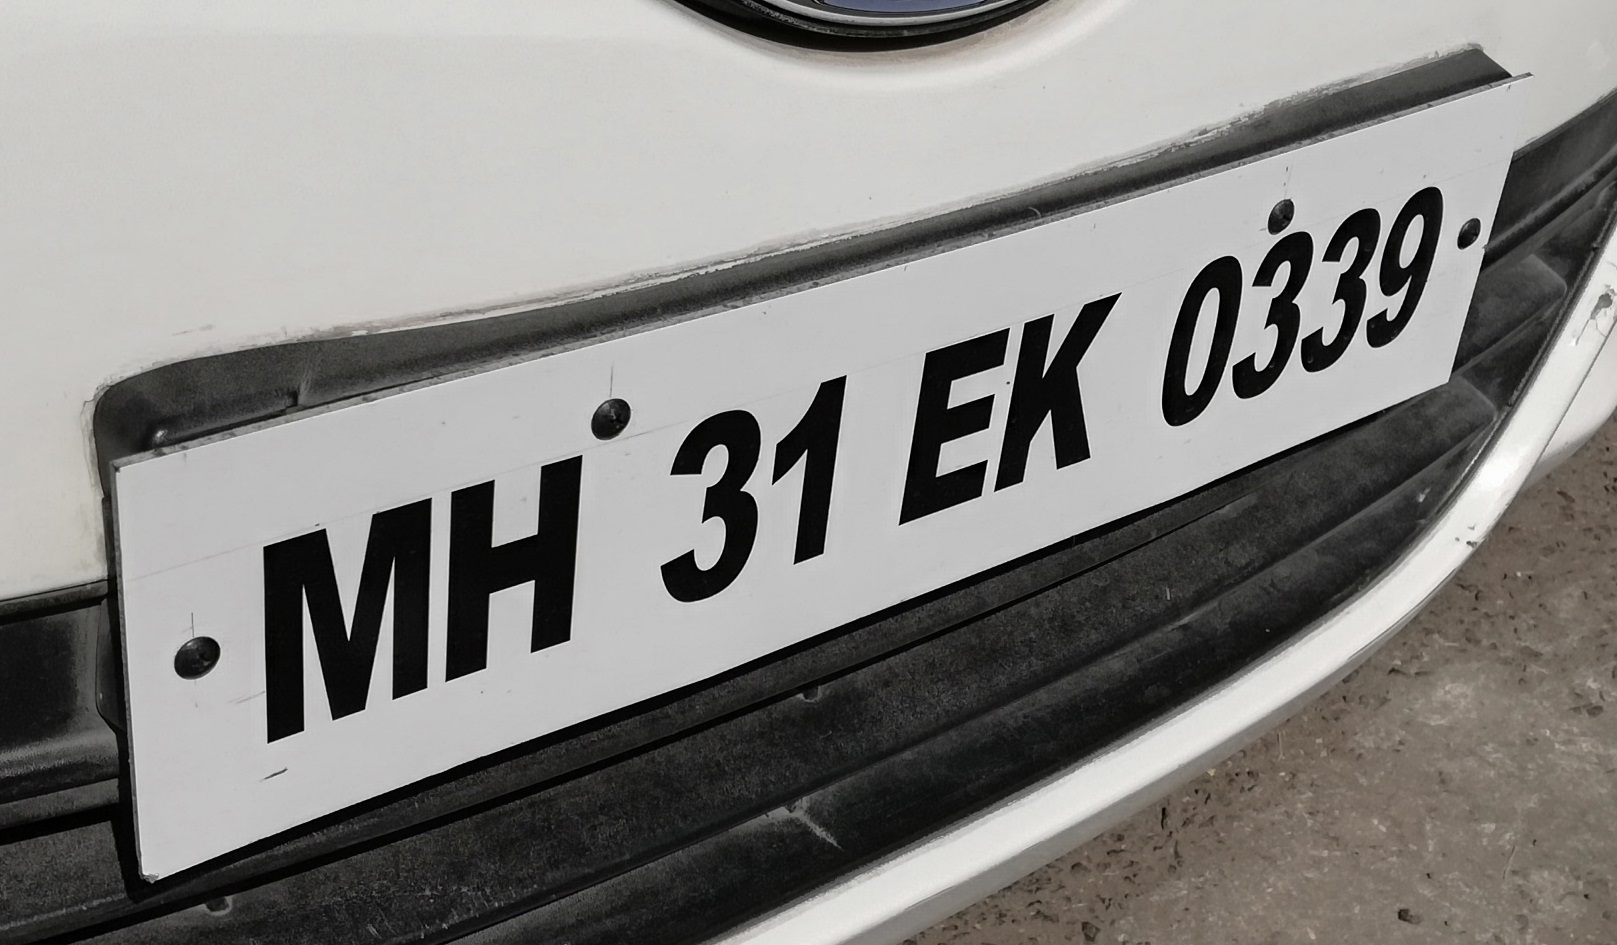numberplate: (112, 75, 1542, 884)
